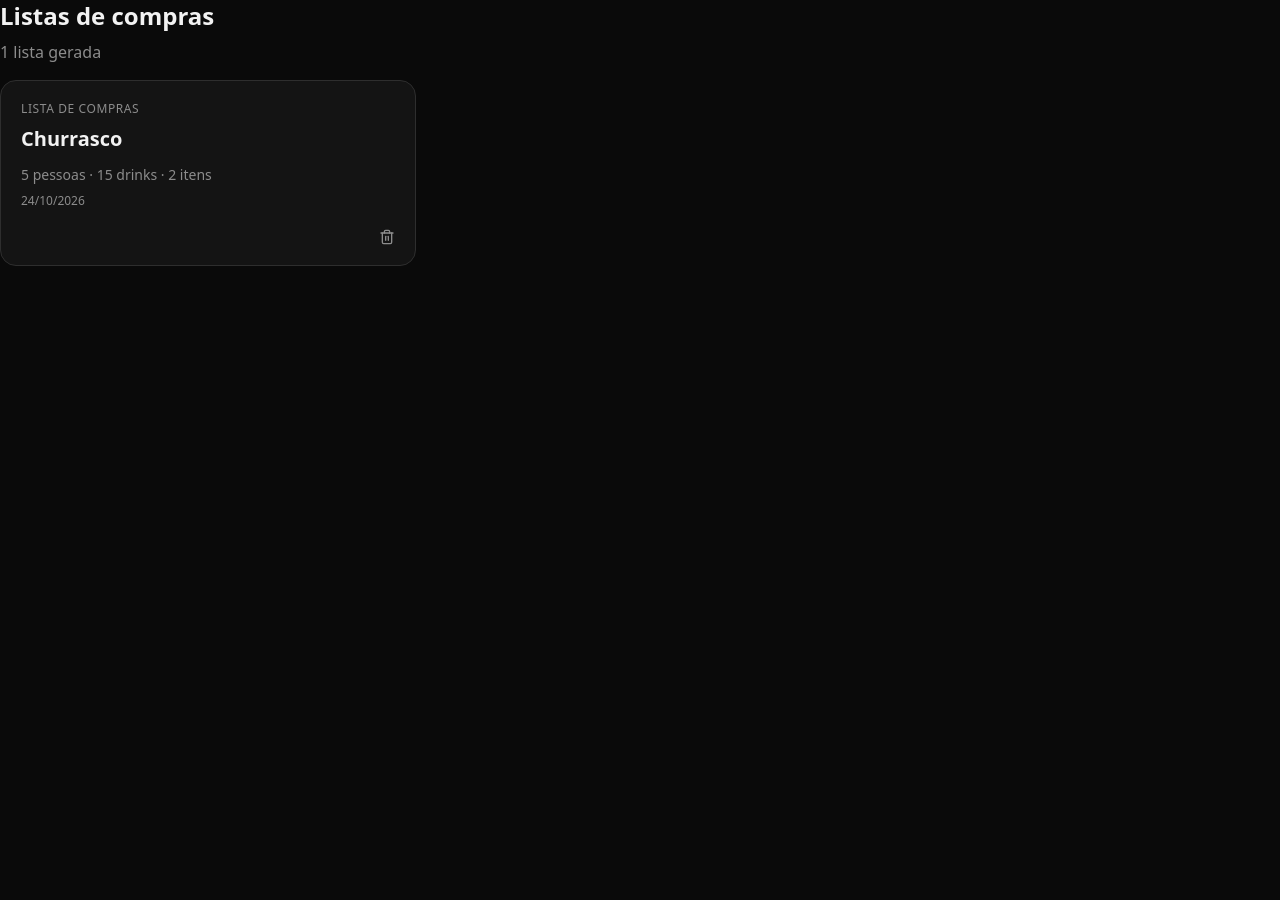
Test: requires confirmation without opening the list when its card trash is clicked
Later steps or results of the test are not shown.
Click the button named "Excluir lista Churrasco": (387, 237) [367,217,407,257]
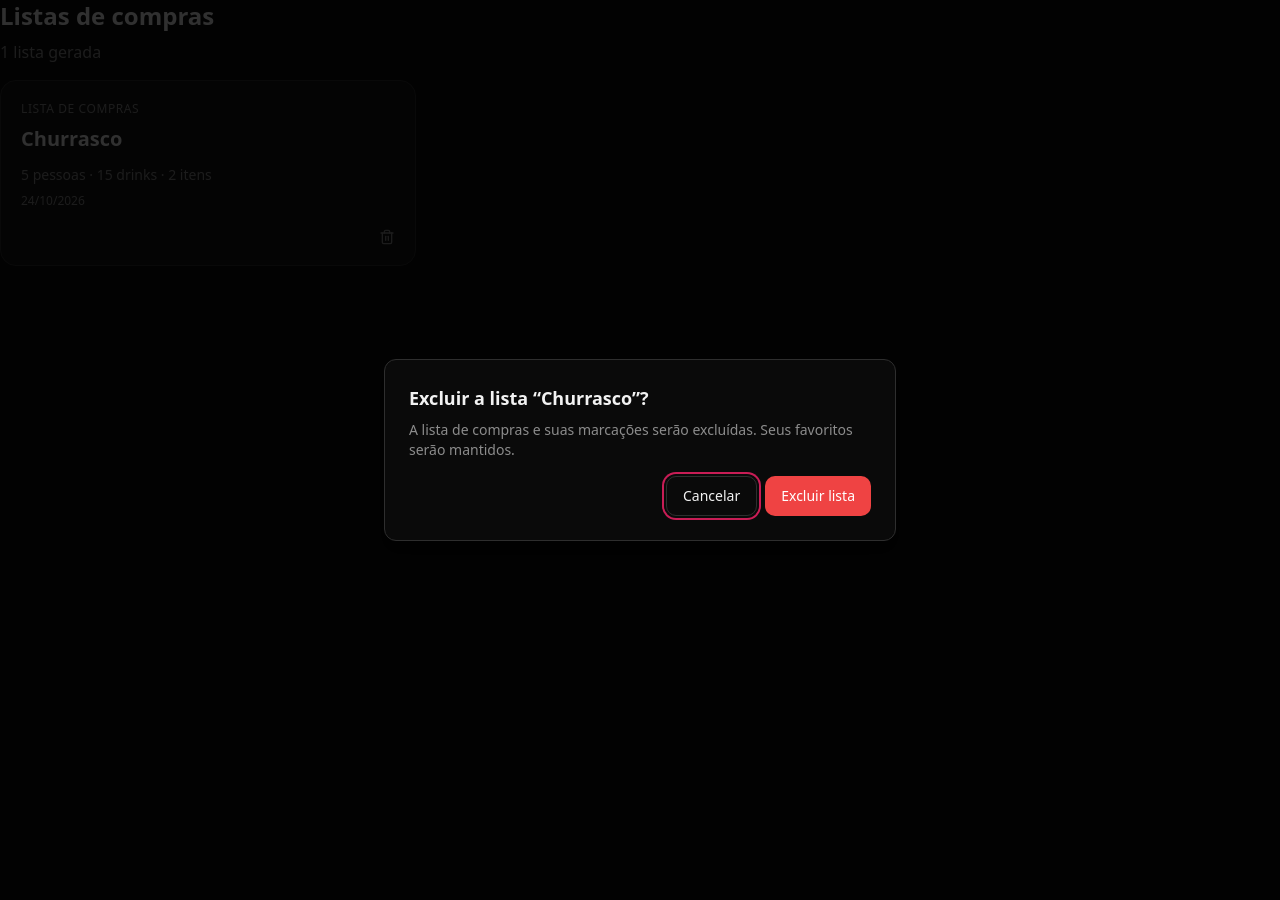
Expected: the dialog shows "Seus favoritos serão mantidos.", [409,420,853,459]
